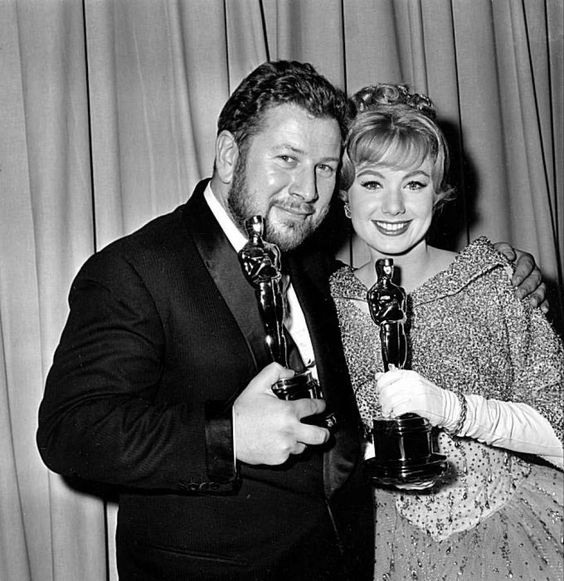hand: (377, 374, 452, 412)
